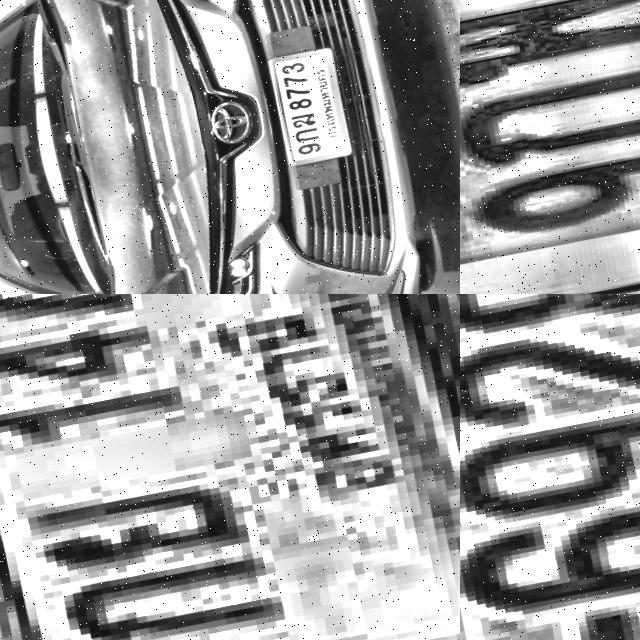license-plate: (0, 294, 460, 640), (460, 294, 640, 640), (460, 0, 640, 294), (263, 44, 355, 167)
